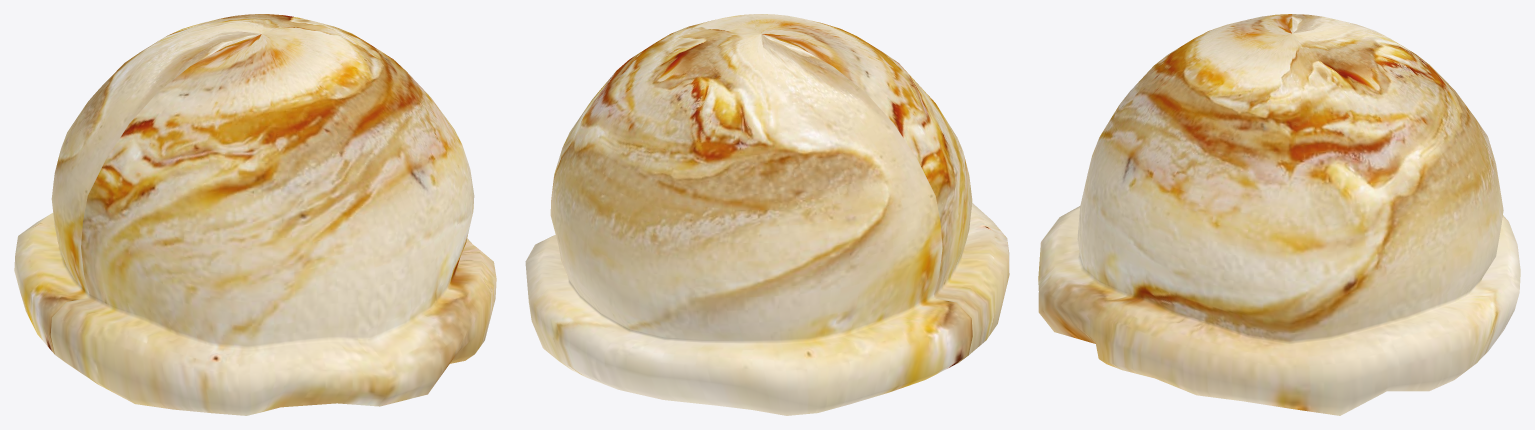
File: scoop-caramel.gltf
The picture shows the model from 3 angles, left to right: view 1: azimuth 30°, elevation 25°; view 2: azimuth 150°, elevation 25°; view 3: azimuth 270°, elevation 25°; orthographic projection. The views are drawn at different scales.
Parts seen in each view (by area): view 1: Scoop; view 2: Scoop; view 3: Scoop.
Part boxes in pixels (left/top/right/bottom): Scoop: left=14, top=14, right=496, bottom=415; Scoop: left=525, top=14, right=1009, bottom=415; Scoop: left=1038, top=14, right=1520, bottom=415.
Size of the model in its own units: 1.33 by 0.9831 by 1.38.
Materials: 1 (1 with a texture image).
